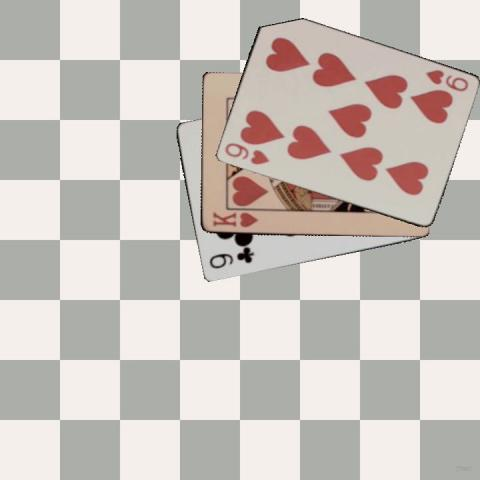9c: (206, 247, 255, 271)
9h: (221, 140, 271, 167), (421, 67, 470, 93)
Kh: (210, 209, 260, 229)
